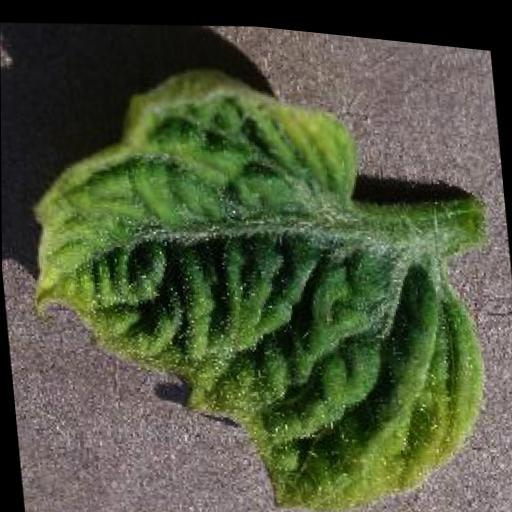Yellow Leaf Curl Virus: (12, 29, 499, 512)
